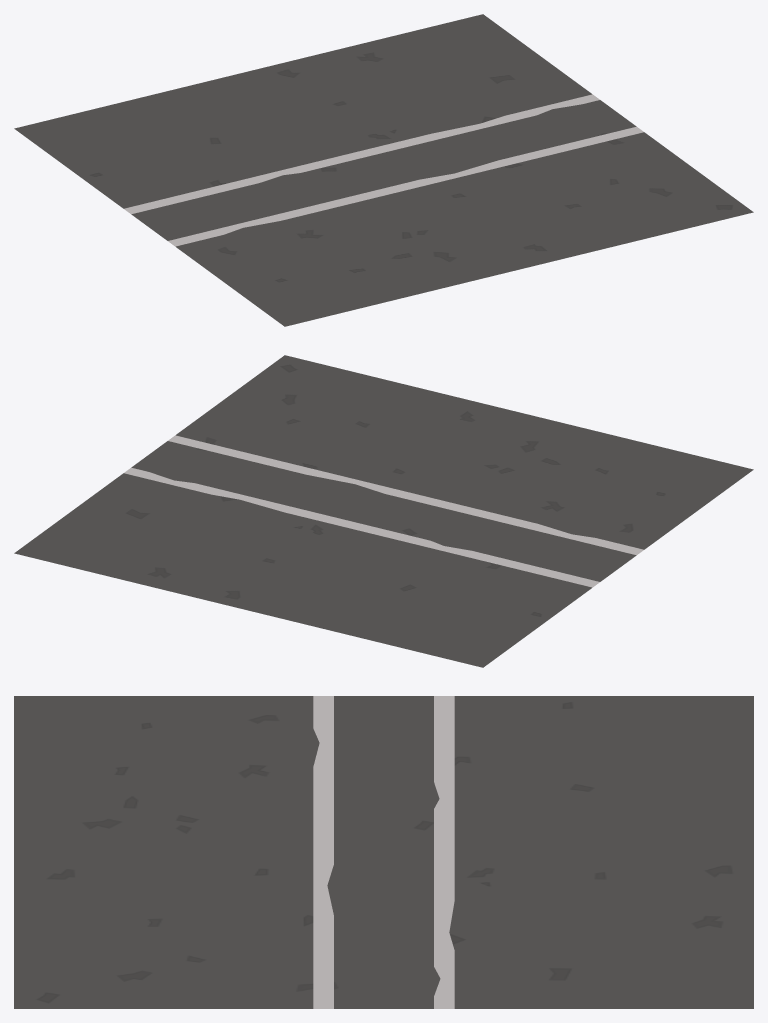
The model's file is SM_Env_Ground_Lines_Small_01.fbx.
3 views of the same model, one above another, from view 1: azimuth 30°, elevation 25°; view 2: azimuth 150°, elevation 25°; view 3: azimuth 270°, elevation 25° (orthographic). The views are drawn at different scales.
Visible parts, largest first — view 1: SM_Env_Ground_Lines_Small_01; view 2: SM_Env_Ground_Lines_Small_01; view 3: SM_Env_Ground_Lines_Small_01.
Part boxes in pixels (<box>): SM_Env_Ground_Lines_Small_01: <box>14,14,753,326</box>; SM_Env_Ground_Lines_Small_01: <box>14,355,753,667</box>; SM_Env_Ground_Lines_Small_01: <box>14,696,753,1008</box>.
Size of the model in its own units: 1000 by 0 by 1000.
